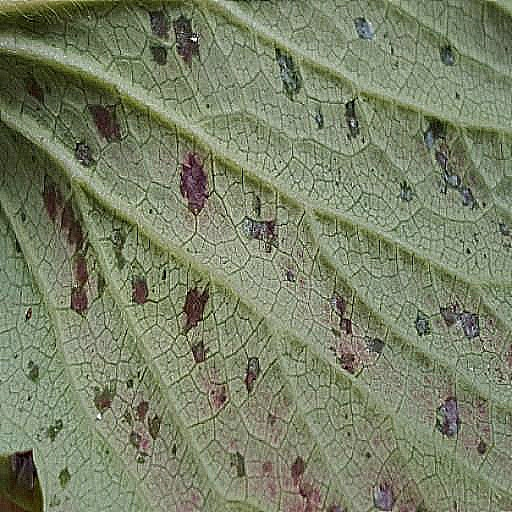Angular Leafspot: (0, 8, 511, 511)
